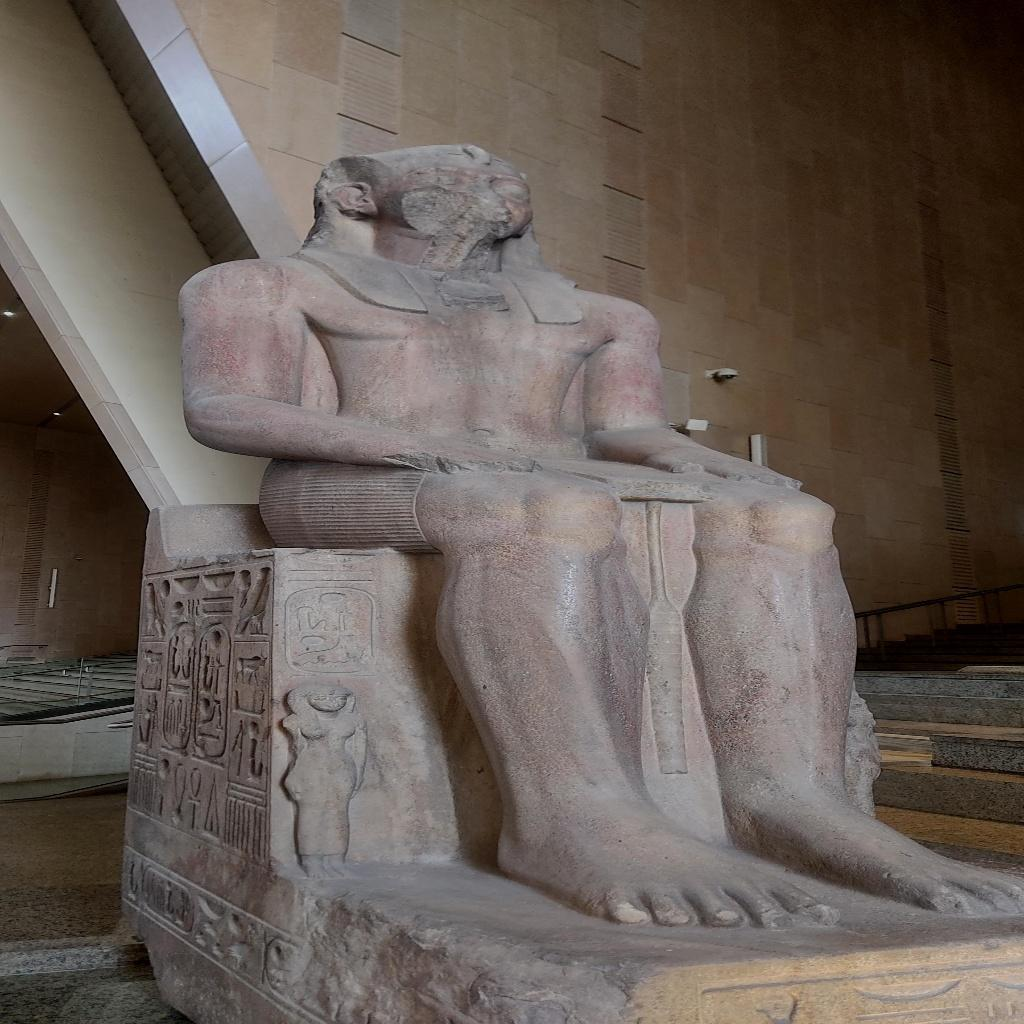Colossal Statue of Middle Kingdom King: (163, 141, 1015, 934)
